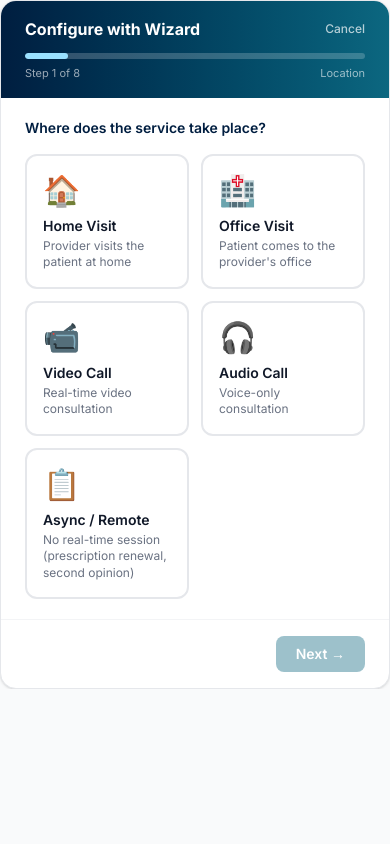
Test: WorkflowWizard › 5. Back navigation — on step 2, clicking Back returns to step 1 with selection preserved
Click the text "Home Visit" at (80, 225), box x1=43 y1=216 x2=116 y2=234
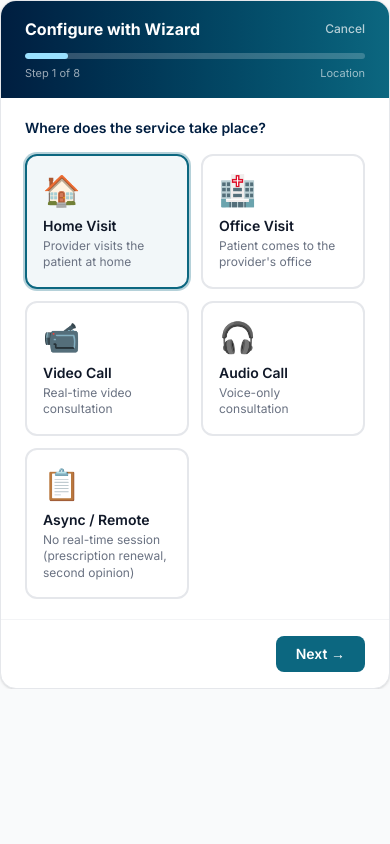
Click the button "Next →" at (320, 654), box x1=276 y1=636 x2=365 y2=672
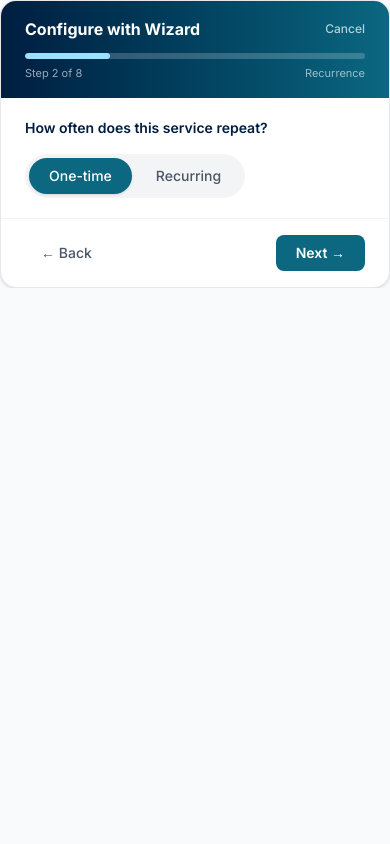
Result: the heading "How often does this service repeat?" is shown at x1=25 y1=118 x2=268 y2=136
Click the button "← Back" at (66, 252), box x1=25 y1=234 x2=108 y2=270
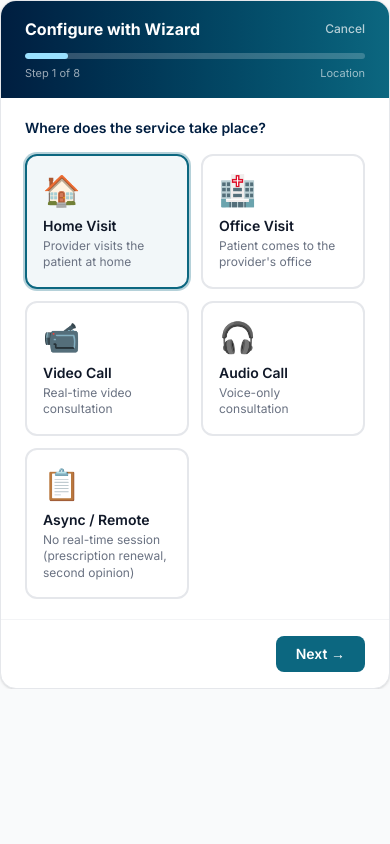
Result: the button "Next →" is enabled at x1=276 y1=636 x2=365 y2=672
Result: the heading "Where does the service take place?" is shown at x1=25 y1=118 x2=266 y2=136
